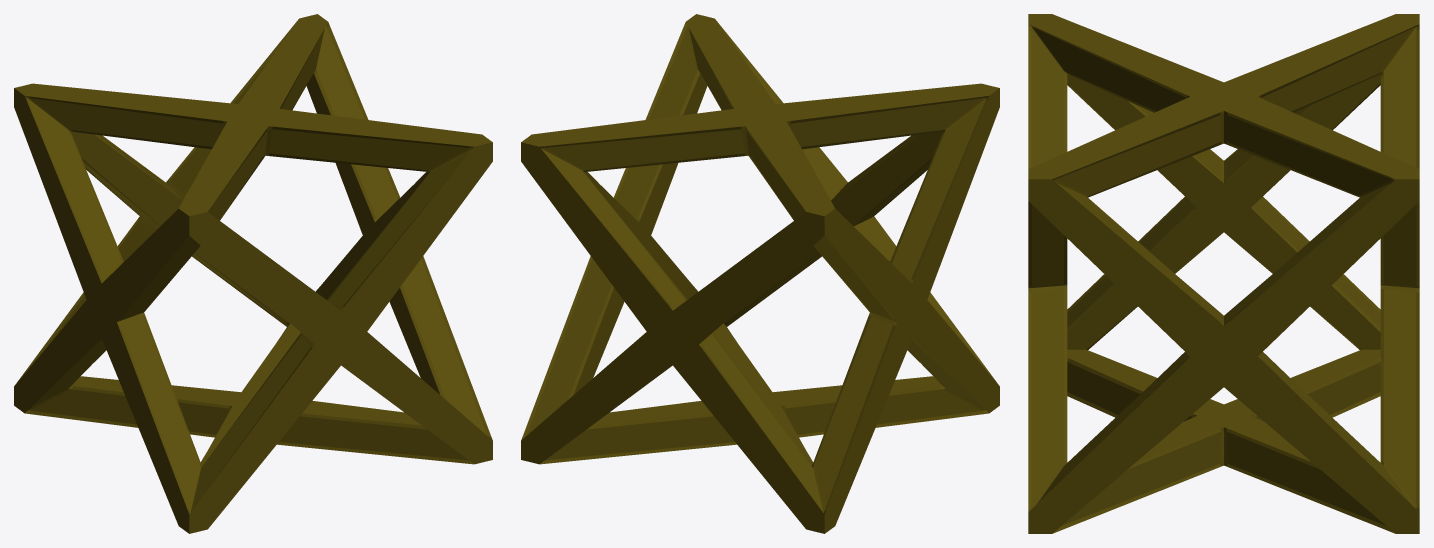
Rendered from GoldenMerkaba.glb.
3 views of the same model, side by side, from view 1: azimuth 30°, elevation 25°; view 2: azimuth 150°, elevation 25°; view 3: azimuth 270°, elevation 25° (orthographic). The views are drawn at different scales.
Parts seen in each view (by area): view 1: Solid; view 2: Solid; view 3: Solid.
Part boxes in pixels (x1=…): Solid: x1=14, y1=14, x2=492, y2=533; Solid: x1=521, y1=14, x2=999, y2=533; Solid: x1=1028, y1=14, x2=1419, y2=533.
Size of the model in its own units: 6.33 by 6.33 by 6.33.
